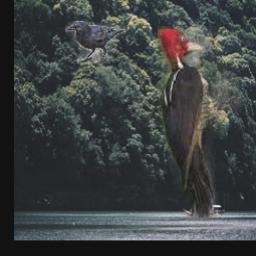Crow: (65, 22, 125, 65)
Woodpecker: (159, 26, 250, 217)
